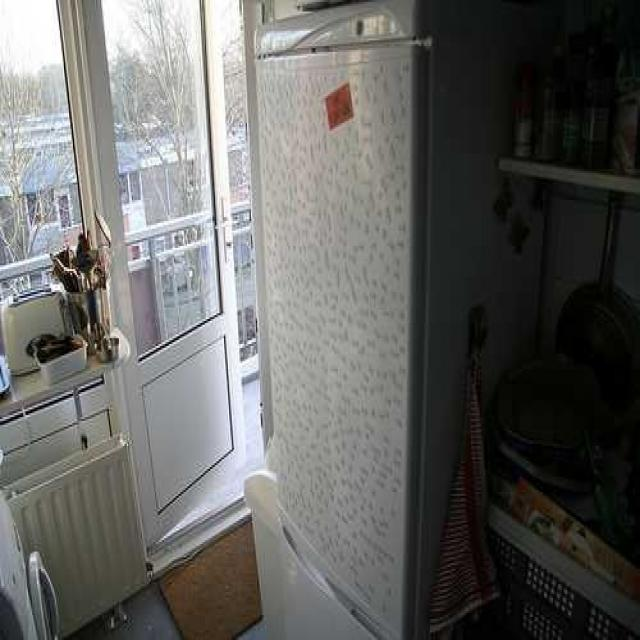refrigerator: (256, 0, 435, 640)
